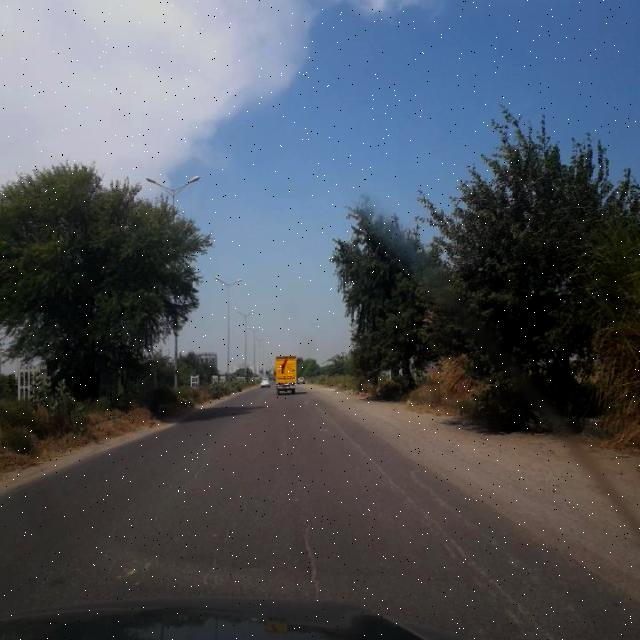D00: (354, 420, 546, 630), (204, 501, 254, 592), (301, 507, 319, 601)
